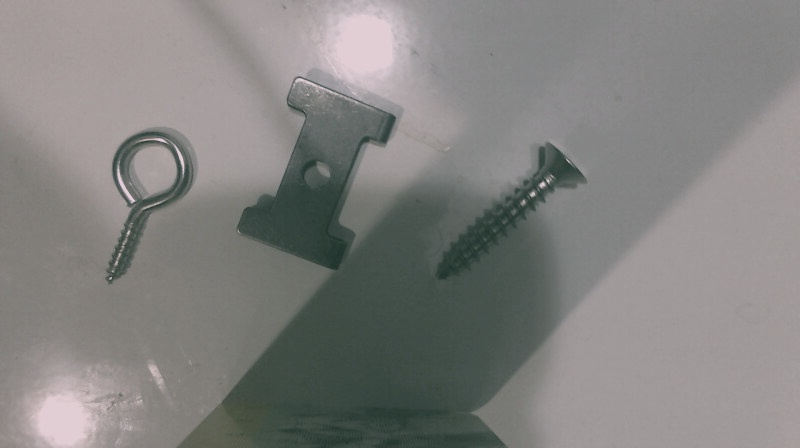O001: (99, 128, 197, 291)
O002: (233, 74, 403, 273)
S001: (429, 136, 595, 286)
